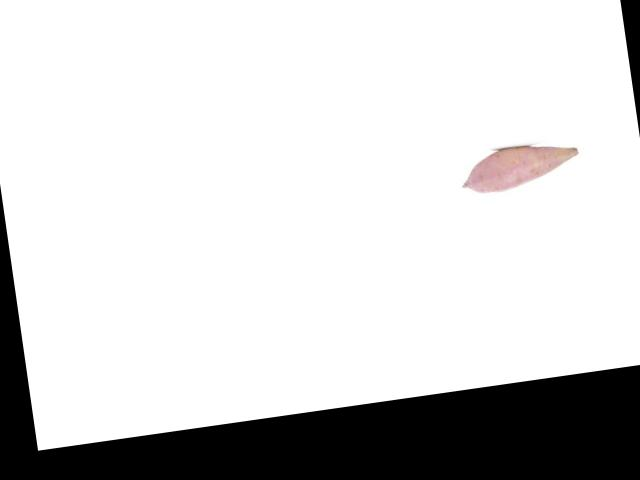sweet_potato: (457, 140, 582, 196)
